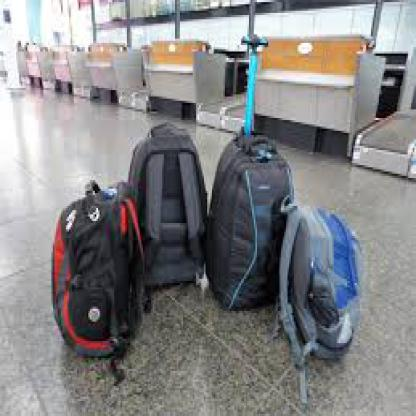morral: (45, 180, 153, 382), (271, 184, 368, 401), (198, 118, 297, 311), (122, 120, 214, 294)
